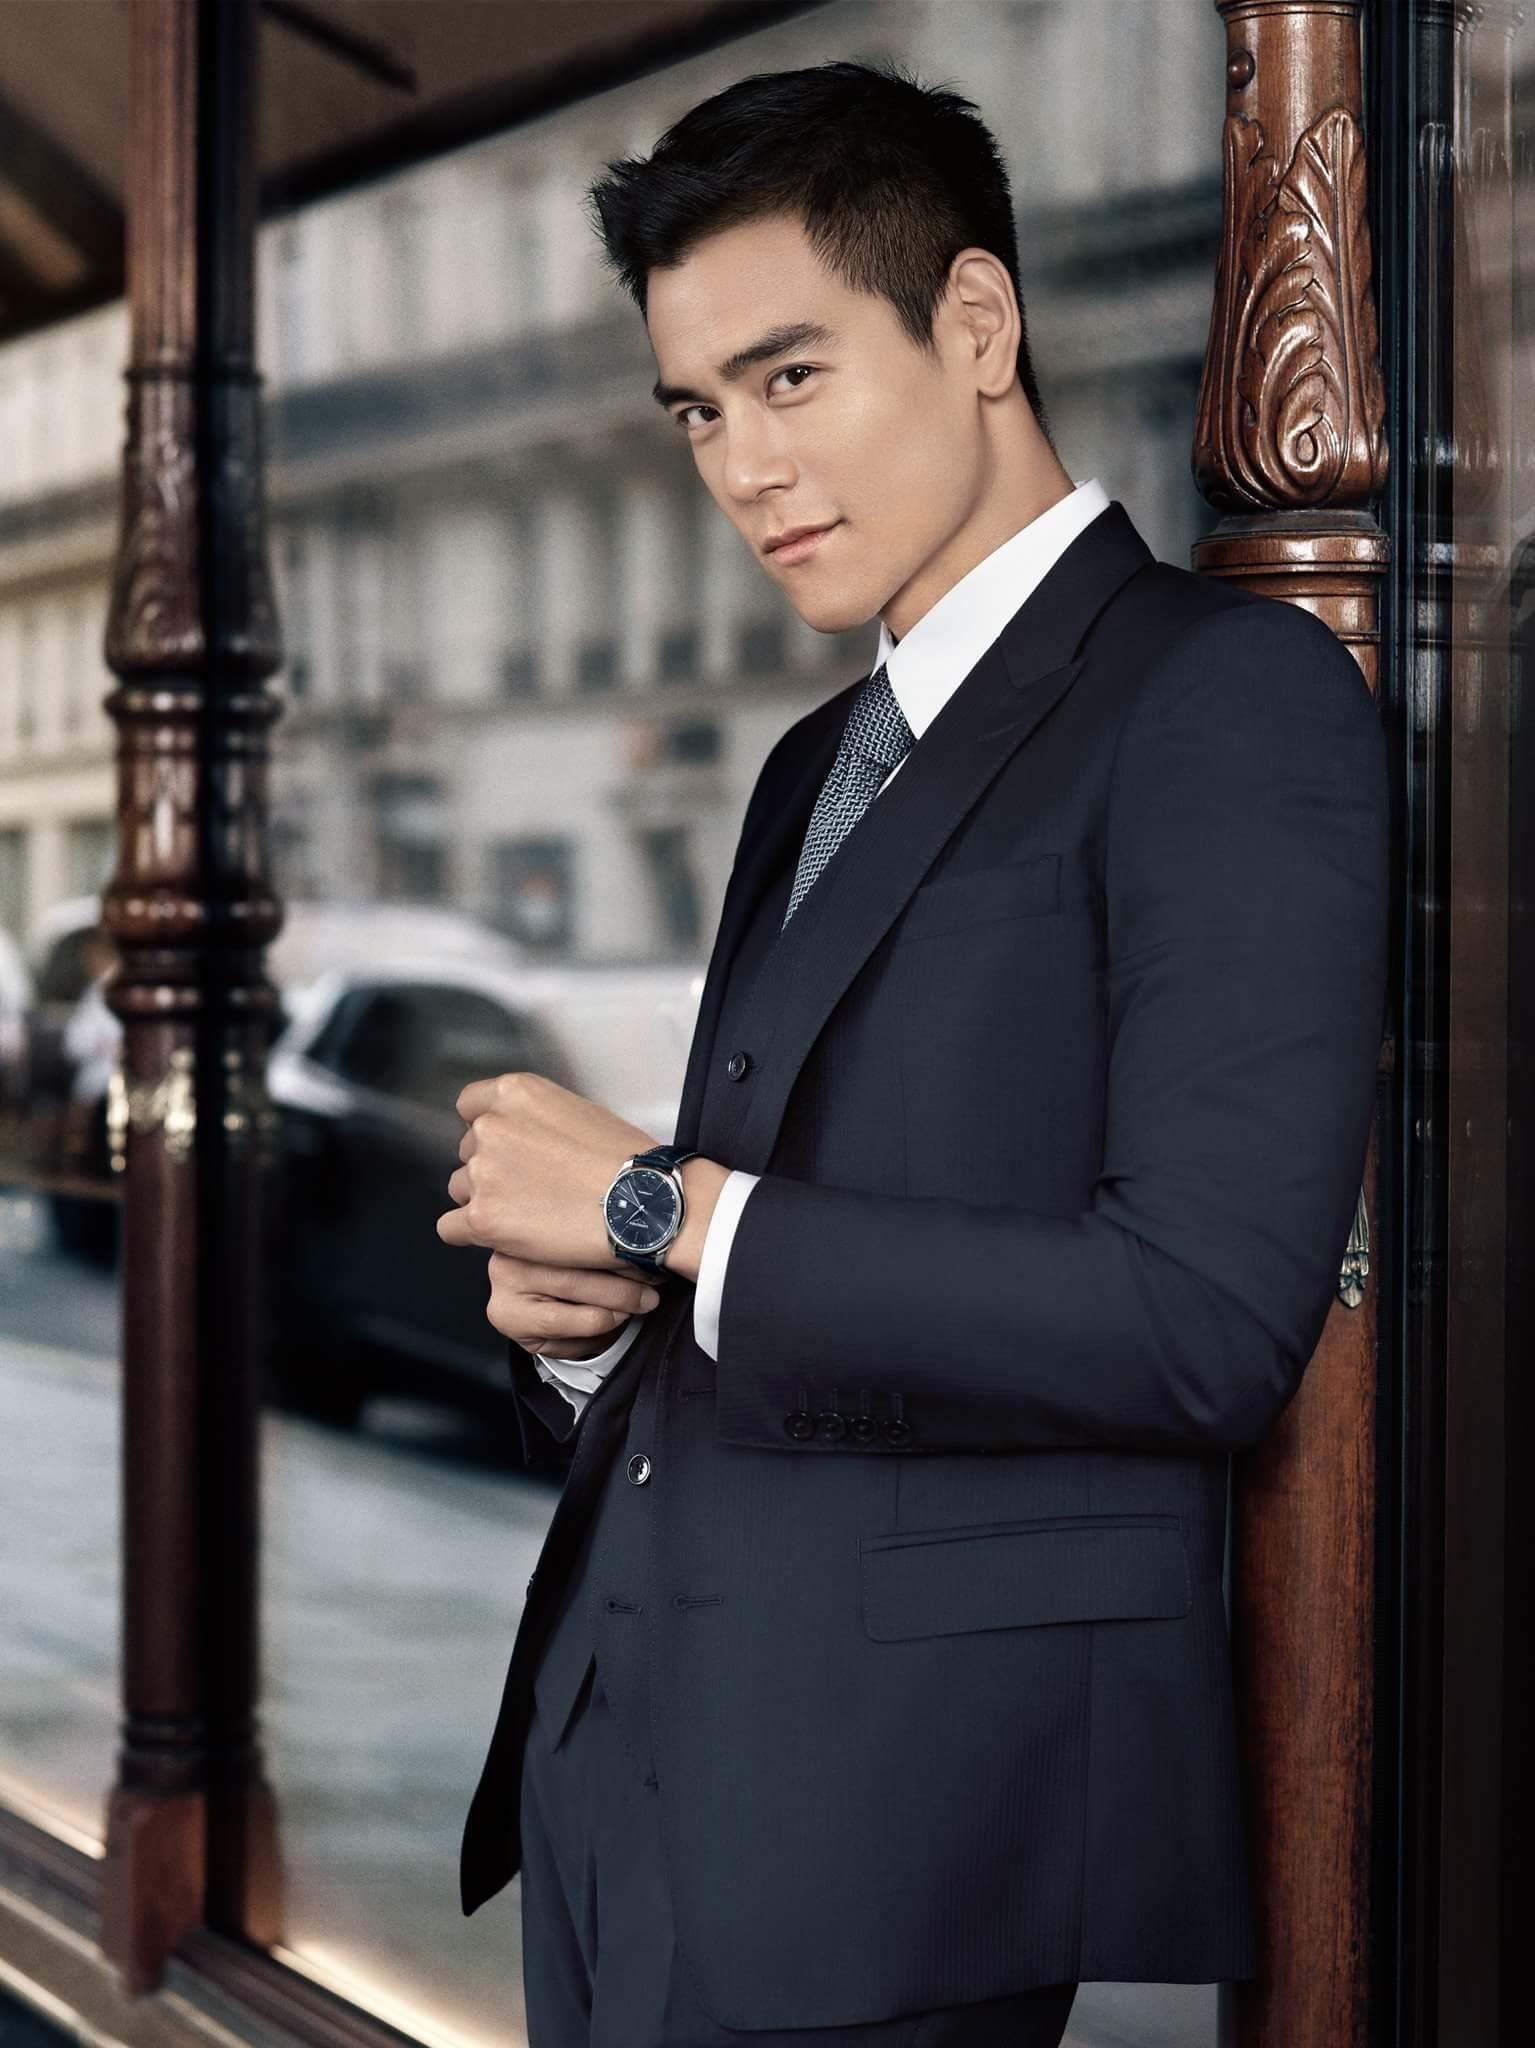person: (501, 71, 1401, 1930)
